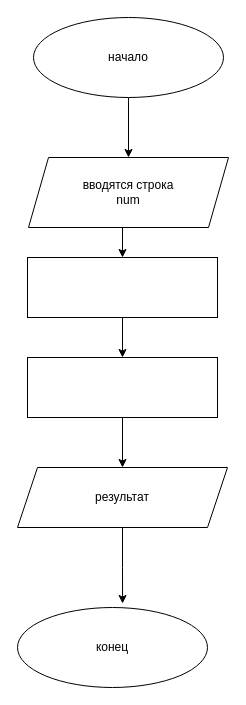
Image size: 246x705. Some labels were removed from this diagram. The centre of each missing label's shape, as x and y in pixels:
"извлекаются символы num[0], num[1],..." belongs at point 122,287.
"преобразуется в числа" belongs at point 122,387.
